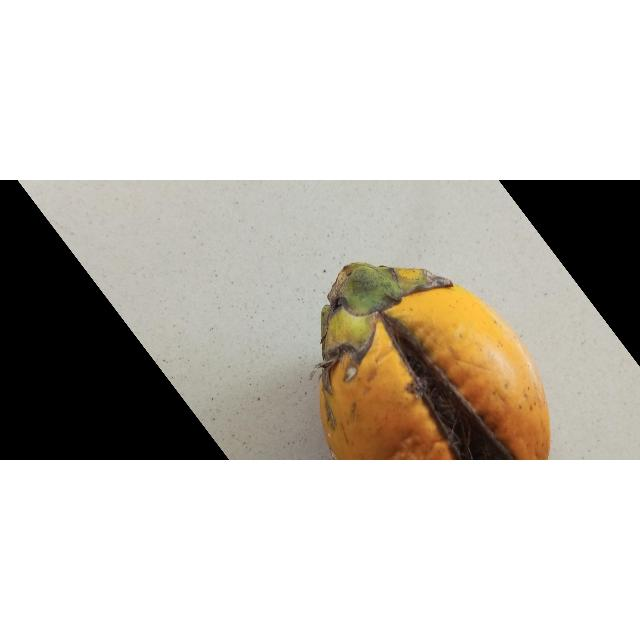damaged: (318, 264, 551, 461)
